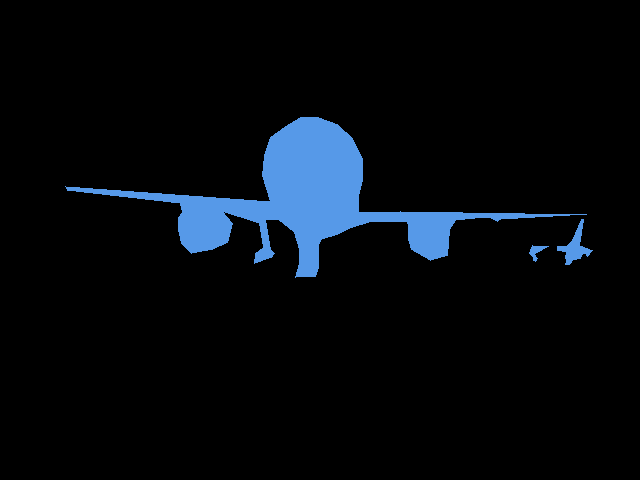Airplane: (65, 117, 586, 278), (529, 219, 592, 265)
